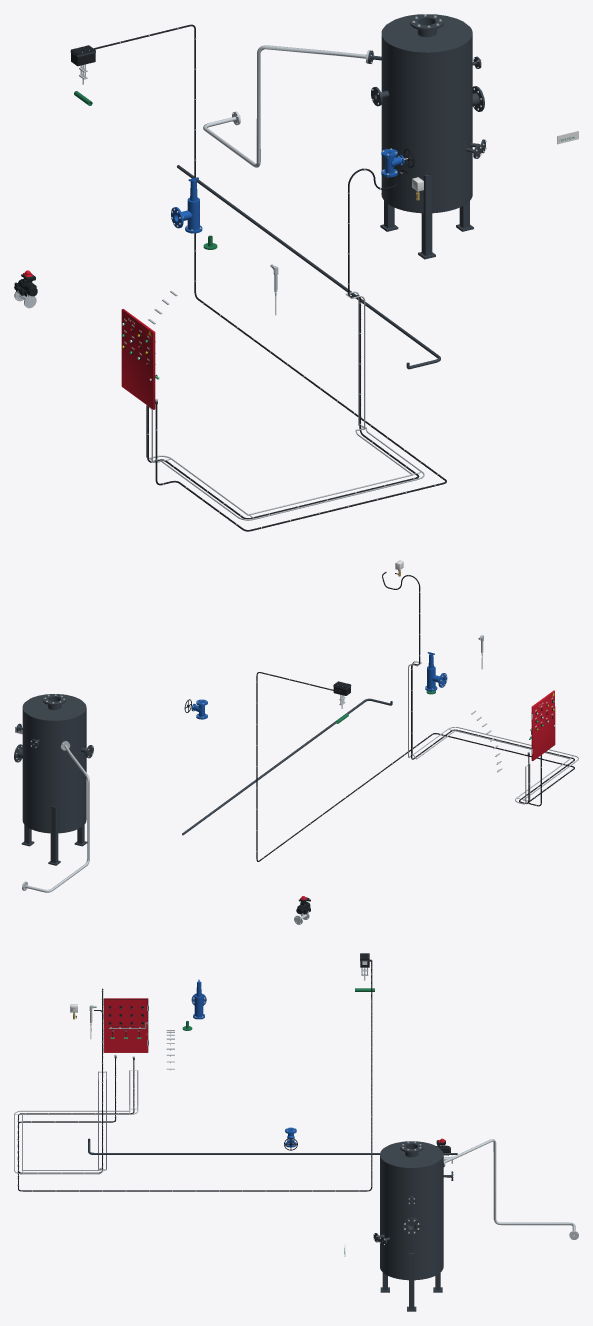
3 renders of one model, top to bottom at view 1: azimuth 30°, elevation 25°; view 2: azimuth 150°, elevation 25°; view 3: azimuth 270°, elevation 25°, orthographic. The views are drawn at different scales.
Parts seen in each view (by area): view 1: separator_bdv60_5 / dark, cabinet_door / cabinet_door_5.npz, mod_direct_drive_cable / black, cables / zinc, trap_gap_to_bdv / steel, wiring_pressure_switch_2 / black, tds_common / dark, safety_1 / blue; view 2: separator_bdv60_5 / dark, cabinet_door / cabinet_door_5.npz, mod_direct_drive_cable / black, cables / zinc, wiring_pressure_switch_2 / black, trap_gap_to_bdv / steel, tds_common / dark; view 3: separator_bdv60_5 / dark, cabinet_door / cabinet_door_5.npz, mod_direct_drive_cable / black, cables / zinc, trap_gap_to_bdv / steel, tds_common / dark, wiring_pressure_switch_2 / black.
Boxes of the visible parts, x1,y1,x2,y2 form: separator_bdv60_5 / dark: [368, 14, 485, 259]; cabinet_door / cabinet_door_5.npz: [121, 309, 155, 409]; mod_direct_drive_cable / black: [94, 24, 446, 531]; cables / zinc: [146, 291, 424, 520]; trap_gap_to_bdv / steel: [203, 45, 370, 167]; wiring_pressure_switch_2 / black: [147, 168, 419, 518]; tds_common / dark: [177, 165, 440, 369]; safety_1 / blue: [171, 177, 202, 233]; separator_bdv60_5 / dark: [14, 694, 93, 865]; cabinet_door / cabinet_door_5.npz: [531, 690, 555, 760]; mod_direct_drive_cable / black: [256, 672, 574, 861]; cables / zinc: [408, 661, 578, 804]; wiring_pressure_switch_2 / black: [382, 572, 574, 803]; trap_gap_to_bdv / steel: [22, 741, 89, 892]; tds_common / dark: [182, 698, 392, 835]; separator_bdv60_5 / dark: [373, 1141, 452, 1311]; cabinet_door / cabinet_door_5.npz: [103, 998, 148, 1052]; mod_direct_drive_cable / black: [17, 960, 372, 1191]; cables / zinc: [14, 1070, 138, 1174]; trap_gap_to_bdv / steel: [443, 1139, 578, 1239]; tds_common / dark: [88, 1138, 457, 1154]; wiring_pressure_switch_2 / black: [17, 988, 134, 1173].
Size of the model in its own units: 5.82 by 2.82 by 6.78.
